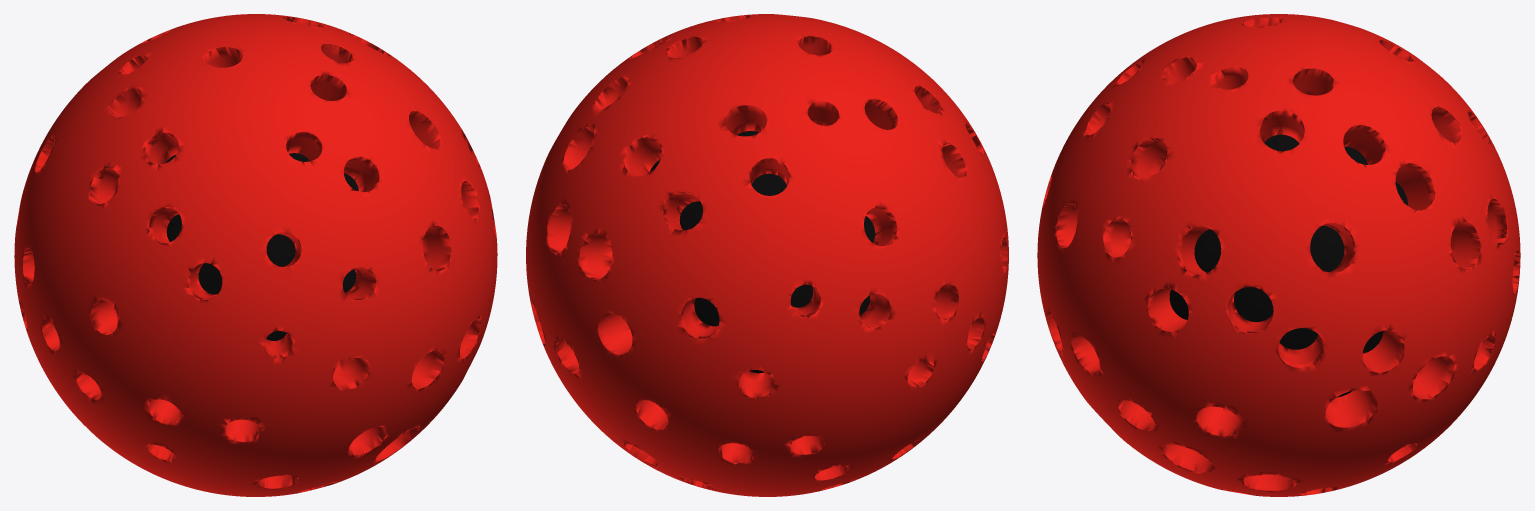
The model's file is gastronomie.glb.
The picture shows the model from 3 angles, left to right: view 1: azimuth 30°, elevation 25°; view 2: azimuth 150°, elevation 25°; view 3: azimuth 270°, elevation 25°; orthographic projection.
Parts seen in each view (by area): view 1: Gastronomie_Shell, Gastronomie_DarkCore; view 2: Gastronomie_Shell, Gastronomie_DarkCore; view 3: Gastronomie_Shell, Gastronomie_DarkCore.
Boxes of the visible parts, left/top/right/bottom form: Gastronomie_Shell: left=14, top=14, right=497, bottom=496; Gastronomie_DarkCore: left=166, top=153, right=358, bottom=340; Gastronomie_Shell: left=526, top=14, right=1008, bottom=496; Gastronomie_DarkCore: left=649, top=131, right=875, bottom=373; Gastronomie_Shell: left=1037, top=14, right=1520, bottom=496; Gastronomie_DarkCore: left=1160, top=134, right=1407, bottom=397.
Size of the model in its own units: 4 by 4 by 4.
